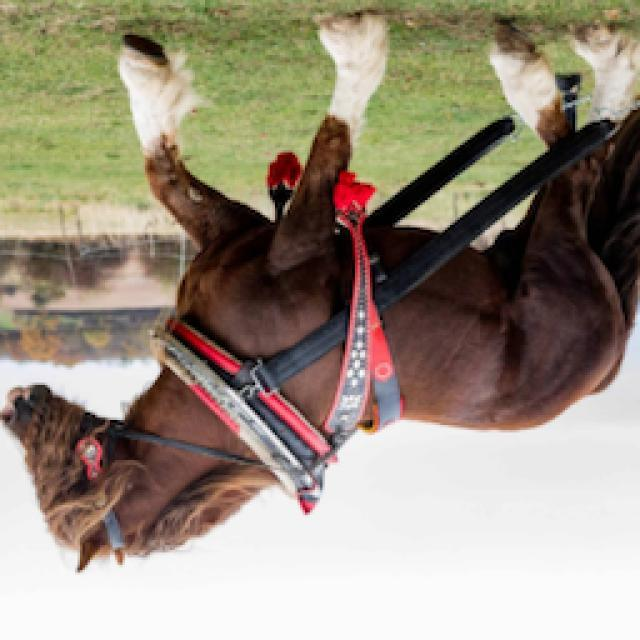Horse: (2, 8, 640, 578)
